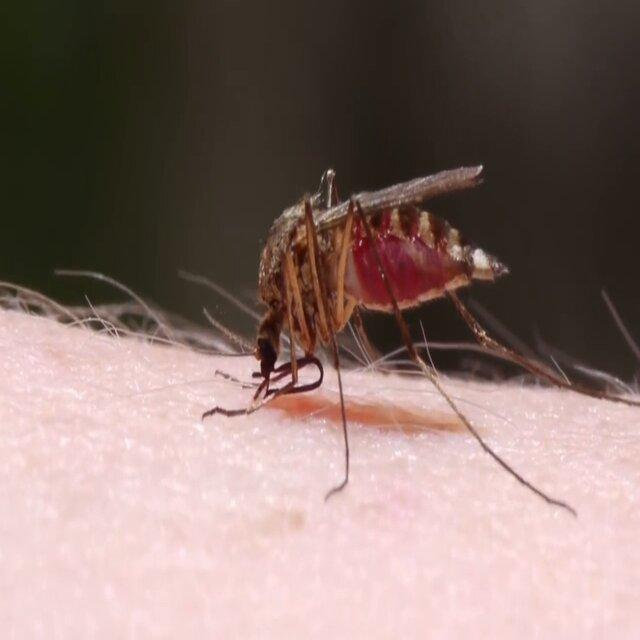mosquitos: (256, 167, 505, 378)
